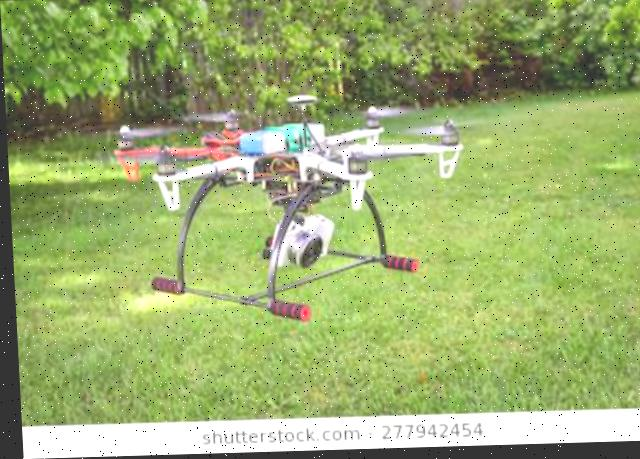drone: (4, 77, 640, 459)
